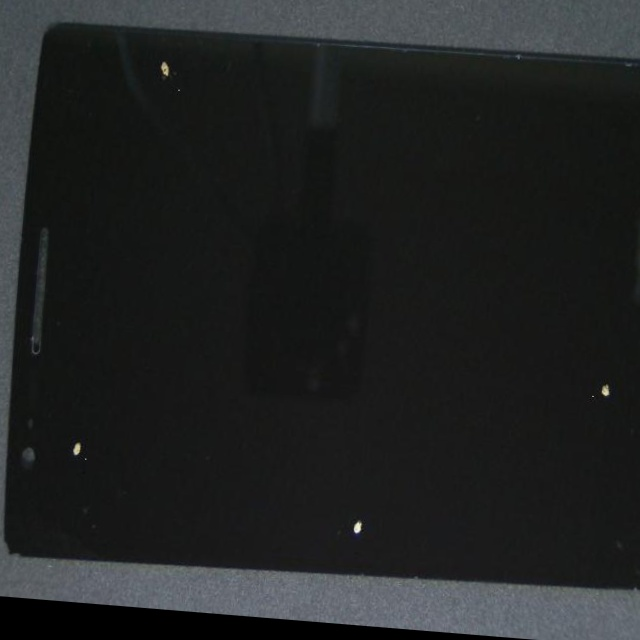stain: (143, 173, 567, 640), (240, 149, 640, 635), (3, 140, 146, 605), (46, 18, 256, 198)
